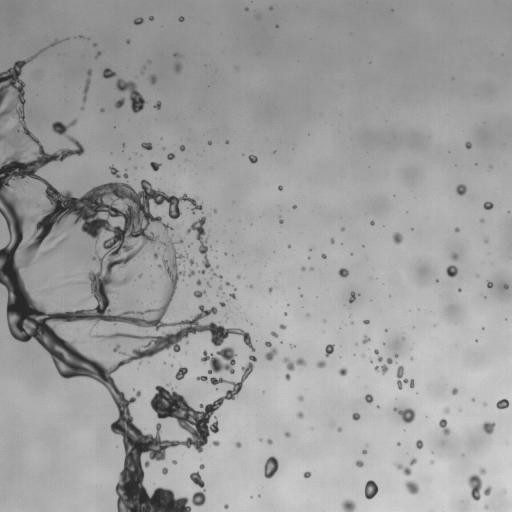droplet: (199, 346, 237, 375), (393, 407, 415, 424), (264, 455, 278, 478), (264, 340, 278, 361), (404, 478, 420, 495), (364, 480, 378, 499), (174, 363, 188, 381), (340, 498, 356, 511), (482, 420, 495, 434), (374, 363, 389, 375), (102, 68, 117, 78), (446, 265, 458, 277), (348, 291, 360, 303), (496, 398, 509, 409), (193, 289, 207, 299), (114, 97, 125, 109), (455, 184, 467, 195), (392, 232, 403, 244), (324, 344, 334, 357), (138, 86, 149, 97), (7, 114, 18, 125), (212, 137, 223, 148), (144, 150, 155, 161), (149, 150, 160, 161), (159, 158, 170, 169), (36, 165, 47, 176), (143, 168, 154, 179), (55, 182, 66, 193), (72, 187, 83, 198), (148, 203, 159, 214), (282, 209, 293, 220), (185, 212, 196, 223), (174, 225, 185, 236), (170, 228, 181, 239), (221, 336, 232, 347), (207, 343, 218, 354), (238, 345, 249, 356), (255, 345, 266, 356), (276, 346, 287, 357), (160, 347, 171, 358), (174, 355, 185, 366), (235, 355, 246, 366), (305, 355, 316, 366), (73, 374, 84, 385), (85, 376, 96, 387), (216, 383, 227, 394), (447, 395, 458, 406), (188, 398, 199, 409), (381, 401, 392, 412), (108, 409, 119, 420), (165, 415, 176, 426), (141, 424, 152, 435), (178, 429, 189, 440), (112, 432, 123, 443), (272, 432, 283, 443), (115, 449, 126, 460), (110, 473, 121, 484), (150, 161, 162, 171), (173, 61, 182, 73), (338, 268, 349, 277), (338, 366, 347, 377), (141, 142, 153, 150), (148, 74, 157, 84), (483, 201, 493, 210), (316, 360, 326, 369), (364, 393, 373, 403), (133, 17, 144, 25), (386, 357, 398, 364), (166, 152, 175, 161), (248, 154, 257, 163), (93, 68, 102, 77), (121, 89, 130, 98), (106, 101, 115, 110), (44, 145, 53, 154), (178, 200, 187, 209), (161, 214, 170, 223), (400, 229, 409, 238), (175, 243, 184, 252), (311, 250, 320, 259), (194, 253, 203, 262), (210, 277, 219, 286), (290, 295, 299, 304), (199, 316, 208, 325), (203, 330, 212, 339), (367, 340, 376, 349), (380, 349, 389, 358), (42, 351, 51, 360), (202, 360, 211, 369), (388, 363, 397, 372), (402, 369, 411, 378), (295, 401, 304, 410), (207, 431, 216, 440), (164, 446, 173, 455), (410, 447, 419, 456), (140, 451, 149, 460), (415, 478, 424, 487), (160, 480, 169, 489), (400, 487, 409, 496), (153, 100, 161, 110), (362, 334, 370, 344), (415, 439, 423, 449), (296, 410, 304, 419), (352, 412, 361, 420), (355, 459, 364, 467), (189, 505, 200, 511), (451, 387, 459, 395), (442, 406, 450, 414), (302, 471, 311, 478), (464, 141, 471, 149), (451, 252, 458, 260), (486, 280, 493, 288), (270, 331, 278, 338), (296, 395, 304, 402), (0, 63, 5, 74), (0, 155, 5, 166), (0, 283, 5, 294), (0, 302, 5, 313), (266, 438, 273, 445), (133, 11, 140, 18), (16, 54, 23, 61), (169, 56, 176, 63), (179, 57, 186, 64), (167, 62, 174, 69), (20, 65, 27, 72), (180, 65, 187, 72), (144, 69, 151, 76), (122, 75, 129, 82), (109, 76, 116, 83), (135, 85, 142, 92), (124, 99, 131, 106), (61, 118, 68, 125), (65, 127, 72, 134), (32, 130, 39, 137), (52, 131, 59, 138), (69, 143, 76, 150), (174, 150, 181, 157), (70, 153, 77, 160), (64, 155, 71, 162), (47, 160, 54, 167), (126, 161, 133, 168), (35, 168, 42, 175), (109, 175, 116, 182), (118, 176, 125, 183), (94, 179, 101, 186), (151, 183, 158, 190), (134, 185, 141, 192), (161, 200, 168, 207), (392, 225, 399, 232), (190, 229, 197, 236), (386, 235, 393, 242), (400, 237, 407, 244), (193, 240, 200, 247), (397, 241, 404, 248), (208, 257, 215, 264), (447, 258, 454, 265), (303, 260, 310, 267), (193, 272, 200, 279), (190, 274, 197, 281), (196, 284, 203, 291), (222, 322, 229, 329), (275, 327, 282, 334), (248, 333, 255, 340), (29, 336, 36, 343), (269, 336, 276, 343), (14, 339, 21, 346), (177, 339, 184, 346), (36, 344, 43, 351), (141, 355, 148, 362), (289, 355, 296, 362), (131, 358, 138, 365), (110, 371, 117, 378), (212, 371, 219, 378), (71, 375, 78, 382), (233, 375, 240, 382), (401, 382, 408, 389), (175, 387, 182, 394), (124, 392, 131, 399), (475, 397, 482, 404), (127, 402, 134, 409), (192, 403, 199, 410), (399, 403, 406, 410), (449, 406, 456, 413), (150, 410, 157, 417), (395, 414, 402, 421), (412, 415, 419, 422), (131, 418, 138, 425), (478, 428, 485, 435), (487, 432, 494, 439), (177, 443, 184, 450), (358, 454, 365, 461), (149, 458, 156, 465), (276, 458, 283, 465), (402, 460, 409, 467), (117, 463, 124, 470), (166, 463, 173, 470), (409, 464, 416, 471), (191, 465, 198, 472), (472, 468, 479, 475), (465, 470, 472, 477), (199, 473, 206, 480), (406, 474, 413, 481), (193, 484, 200, 491), (465, 485, 472, 492), (477, 487, 484, 494), (173, 492, 180, 499), (412, 492, 419, 499), (185, 499, 192, 506), (179, 144, 185, 152), (278, 323, 286, 329), (196, 278, 201, 287), (245, 284, 254, 289), (336, 506, 345, 511), (352, 506, 361, 511), (308, 245, 315, 251), (136, 273, 144, 278), (362, 319, 370, 324), (277, 185, 283, 191), (300, 265, 306, 271), (284, 431, 290, 437), (235, 441, 241, 447), (429, 459, 435, 465), (266, 0, 275, 4), (483, 236, 488, 243), (289, 343, 296, 348), (368, 356, 373, 363), (162, 467, 167, 474), (148, 16, 154, 21), (178, 16, 184, 21), (234, 65, 239, 71), (454, 227, 460, 232), (337, 426, 342, 432), (361, 449, 367, 454), (483, 504, 489, 509), (330, 237, 334, 244), (292, 204, 297, 209), (479, 218, 484, 223), (340, 226, 345, 231), (321, 253, 326, 258), (309, 266, 314, 271), (503, 284, 508, 289), (360, 352, 365, 357), (470, 397, 475, 402), (482, 401, 487, 406), (396, 441, 401, 446), (268, 0, 273, 5), (247, 3, 252, 8), (271, 8, 276, 13), (266, 9, 271, 14), (143, 17, 148, 22), (128, 19, 133, 24), (137, 23, 142, 28), (82, 31, 87, 36), (56, 35, 61, 40), (49, 37, 54, 42), (90, 37, 95, 42), (43, 41, 48, 46), (38, 44, 43, 49), (93, 46, 98, 51), (29, 50, 34, 55), (91, 50, 96, 55), (36, 54, 41, 59), (97, 54, 102, 59), (32, 57, 37, 62), (8, 62, 13, 67), (110, 66, 115, 71), (82, 67, 87, 72), (98, 69, 103, 74), (82, 73, 87, 78), (17, 74, 22, 79), (131, 77, 136, 82), (80, 81, 85, 86), (154, 81, 159, 86), (88, 83, 93, 88), (79, 85, 84, 90), (22, 86, 27, 91), (86, 89, 91, 94), (78, 92, 83, 97), (22, 94, 27, 99), (141, 94, 146, 99), (151, 99, 156, 104), (77, 100, 82, 105), (83, 102, 88, 107), (142, 102, 147, 107), (160, 102, 165, 107), (95, 105, 100, 110), (138, 109, 143, 114), (47, 124, 52, 129), (27, 126, 32, 131), (74, 135, 79, 140), (464, 136, 469, 141), (144, 137, 149, 142), (78, 139, 83, 144), (39, 140, 44, 145), (160, 141, 165, 146), (81, 143, 86, 148), (151, 143, 156, 148), (470, 143, 475, 148), (461, 145, 466, 150), (142, 148, 147, 153), (166, 148, 171, 153), (80, 152, 85, 157), (130, 154, 135, 159), (171, 157, 176, 162), (154, 158, 159, 163), (147, 165, 152, 170), (157, 166, 162, 171), (118, 170, 123, 175), (47, 178, 52, 183), (459, 179, 464, 184), (464, 190, 469, 195), (166, 191, 171, 196), (175, 193, 180, 198), (187, 193, 192, 198), (455, 193, 460, 198), (195, 199, 200, 204), (201, 206, 206, 211), (194, 208, 199, 213), (487, 208, 492, 213), (176, 216, 181, 221), (339, 221, 344, 226), (479, 222, 484, 227), (185, 223, 190, 228), (201, 223, 206, 228), (457, 223, 462, 228), (341, 230, 346, 235), (329, 232, 334, 237), (325, 238, 330, 243), (334, 239, 339, 244), (182, 240, 187, 245), (173, 243, 178, 248), (454, 248, 459, 253), (205, 249, 210, 254), (305, 250, 310, 255), (226, 253, 231, 258), (184, 259, 189, 264), (340, 263, 345, 268), (190, 264, 195, 269), (199, 264, 204, 269), (295, 264, 300, 269), (204, 267, 209, 272), (334, 267, 339, 272), (185, 268, 190, 273), (304, 268, 309, 273), (215, 269, 220, 274), (296, 269, 301, 274), (442, 271, 447, 276), (335, 273, 340, 278), (177, 274, 182, 279), (345, 274, 350, 279), (451, 275, 456, 280), (214, 276, 219, 281), (221, 276, 226, 281), (200, 280, 205, 285), (220, 280, 225, 285), (175, 281, 180, 286), (265, 282, 270, 287), (221, 283, 226, 288), (228, 288, 233, 293), (271, 288, 276, 293), (298, 288, 303, 293), (217, 290, 222, 295), (345, 293, 350, 298), (171, 295, 176, 300), (168, 301, 173, 306), (215, 303, 220, 308), (203, 305, 208, 310), (283, 306, 288, 311), (363, 314, 368, 319), (187, 315, 192, 320), (350, 315, 355, 320), (176, 316, 181, 321), (243, 327, 248, 332), (5, 329, 10, 334), (227, 332, 232, 337), (366, 332, 371, 337), (8, 334, 13, 339), (238, 334, 243, 339), (358, 335, 363, 340), (250, 339, 255, 344), (365, 341, 370, 346), (168, 345, 173, 350), (332, 345, 337, 350), (265, 346, 270, 351), (321, 349, 326, 354), (251, 351, 256, 356), (328, 352, 333, 357), (372, 353, 377, 358), (272, 354, 277, 359), (233, 355, 238, 360), (302, 355, 307, 360), (391, 356, 396, 361), (166, 359, 171, 364), (265, 359, 270, 364), (381, 359, 386, 364), (49, 361, 54, 366), (377, 361, 382, 366), (181, 362, 186, 367), (385, 362, 390, 367), (337, 364, 342, 369), (118, 365, 123, 370), (320, 366, 325, 371), (52, 367, 57, 372), (173, 367, 178, 372), (251, 367, 256, 372), (287, 369, 292, 374), (345, 370, 350, 375), (335, 372, 340, 377), (183, 373, 188, 378), (206, 373, 211, 378), (280, 374, 285, 379), (342, 374, 347, 379), (241, 381, 246, 386), (216, 382, 221, 387), (228, 384, 233, 389), (117, 386, 122, 391), (447, 386, 452, 391), (239, 387, 244, 392), (152, 388, 157, 393), (362, 390, 367, 395), (456, 390, 461, 395), (370, 391, 375, 396), (470, 392, 475, 397), (302, 393, 307, 398), (360, 393, 365, 398), (497, 395, 502, 400), (135, 396, 140, 401), (360, 397, 365, 402), (222, 398, 227, 403), (208, 399, 213, 404), (370, 400, 375, 405), (364, 401, 369, 406), (410, 405, 415, 410), (501, 407, 506, 412), (301, 408, 306, 413), (357, 409, 362, 414), (212, 410, 217, 415), (347, 413, 352, 418), (442, 414, 447, 419), (295, 417, 300, 422), (435, 417, 440, 422), (445, 417, 450, 422), (487, 418, 492, 423), (352, 419, 357, 424), (409, 420, 414, 425), (335, 421, 340, 426), (445, 422, 450, 427), (106, 425, 111, 430), (492, 425, 497, 430), (283, 426, 288, 431), (332, 426, 337, 431), (438, 426, 443, 431), (288, 428, 293, 433), (208, 430, 213, 435), (268, 434, 273, 439), (443, 434, 448, 439), (159, 435, 164, 440), (262, 435, 267, 440), (281, 435, 286, 440), (233, 437, 238, 442), (421, 438, 426, 443), (262, 440, 267, 445), (240, 441, 245, 446), (230, 442, 235, 447), (119, 443, 124, 448), (411, 443, 416, 448), (181, 444, 186, 449), (189, 444, 194, 449), (201, 444, 206, 449), (360, 444, 365, 449), (234, 446, 239, 451), (264, 454, 269, 459), (274, 454, 279, 459), (429, 454, 434, 459), (261, 458, 266, 463), (482, 463, 487, 468), (391, 465, 396, 470), (357, 466, 362, 471), (301, 467, 306, 472), (166, 469, 171, 474), (259, 469, 264, 474), (273, 471, 278, 476), (298, 472, 303, 477), (367, 475, 372, 480), (265, 477, 270, 482), (188, 479, 193, 484), (361, 480, 366, 485), (375, 481, 380, 486), (111, 482, 116, 487), (489, 489, 494, 494), (203, 491, 208, 496), (360, 491, 365, 496), (252, 493, 257, 498), (373, 493, 378, 498), (113, 494, 118, 499), (468, 496, 473, 501), (203, 499, 208, 504), (213, 208, 217, 214), (171, 460, 177, 464), (0, 105, 3, 112), (0, 127, 3, 134), (0, 139, 3, 146), (0, 201, 3, 208), (0, 242, 3, 249), (244, 7, 249, 11), (268, 6, 273, 10), (126, 39, 130, 44), (99, 108, 104, 112), (207, 140, 211, 145), (370, 220, 374, 225), (307, 255, 311, 260), (215, 264, 219, 269), (236, 274, 240, 279), (305, 313, 310, 317), (321, 319, 326, 323), (394, 352, 398, 357), (309, 426, 314, 430), (502, 488, 506, 493), (224, 504, 228, 509), (225, 140, 229, 144), (287, 244, 291, 248), (457, 288, 461, 292), (283, 312, 287, 316), (350, 321, 354, 325), (384, 328, 388, 332), (401, 336, 405, 340), (354, 342, 358, 346), (376, 405, 380, 409), (365, 443, 369, 447), (92, 43, 97, 46), (122, 142, 125, 147), (184, 159, 189, 162), (432, 323, 437, 326), (410, 356, 413, 361), (508, 283, 511, 288), (508, 400, 511, 405), (112, 508, 117, 511), (223, 508, 228, 511), (481, 508, 486, 511), (485, 508, 490, 511), (275, 24, 278, 28), (147, 60, 151, 63), (162, 147, 166, 150), (272, 150, 276, 153), (133, 152, 137, 155), (133, 166, 137, 169), (410, 227, 414, 230), (475, 274, 479, 277), (435, 278, 438, 282), (481, 326, 484, 330), (475, 338, 478, 342), (163, 361, 167, 364), (170, 363, 173, 367), (258, 438, 262, 441), (115, 444, 118, 448), (257, 494, 261, 497), (0, 213, 2, 218), (241, 153, 244, 156), (489, 165, 492, 168), (124, 168, 127, 171), (507, 210, 510, 213), (340, 242, 343, 245), (224, 252, 227, 255), (350, 252, 353, 255), (297, 286, 300, 289), (300, 294, 303, 297), (388, 294, 391, 297), (286, 303, 289, 306), (322, 330, 325, 333), (382, 342, 385, 345), (184, 351, 187, 354), (262, 390, 265, 393), (458, 408, 461, 411), (431, 451, 434, 454), (461, 453, 464, 456), (272, 5, 275, 8), (243, 10, 246, 13), (149, 12, 152, 15), (181, 13, 184, 16), (176, 14, 179, 17), (153, 15, 156, 18), (175, 18, 178, 21), (151, 19, 154, 22), (182, 19, 185, 22), (179, 21, 182, 24), (277, 22, 280, 25), (272, 23, 275, 26), (275, 27, 278, 30), (80, 32, 83, 35), (74, 33, 77, 36), (63, 35, 66, 38), (76, 36, 79, 39), (79, 37, 82, 40), (84, 38, 87, 41), (65, 39, 68, 42), (61, 40, 64, 43), (129, 40, 132, 43), (123, 41, 126, 44), (53, 44, 56, 47), (49, 46, 52, 49), (171, 50, 174, 53), (368, 63, 371, 66), (106, 65, 109, 68), (102, 66, 105, 69), (23, 102, 26, 105), (153, 107, 156, 110), (23, 109, 26, 112), (100, 111, 103, 114), (112, 122, 115, 125), (115, 124, 118, 127), (207, 137, 210, 140), (222, 139, 225, 142), (119, 140, 122, 143), (204, 140, 207, 143), (228, 140, 231, 143), (124, 143, 127, 146), (205, 143, 208, 146), (210, 143, 213, 146), (225, 143, 228, 146), (119, 144, 122, 147), (184, 146, 187, 149), (270, 148, 273, 151), (183, 149, 186, 152), (248, 151, 251, 154), (274, 151, 277, 154), (252, 152, 255, 155), (136, 153, 139, 156), (256, 158, 259, 161), (167, 159, 170, 162), (247, 159, 250, 162), (474, 159, 477, 162), (251, 162, 254, 165), (108, 163, 111, 166), (472, 164, 475, 167), (137, 165, 140, 168), (115, 166, 118, 169), (107, 168, 110, 171), (125, 170, 128, 173), (141, 176, 144, 179), (279, 182, 282, 185), (275, 184, 278, 187), (282, 186, 285, 189), (276, 189, 279, 192), (280, 189, 283, 192), (390, 195, 393, 198), (491, 200, 494, 203), (290, 202, 293, 205), (295, 202, 298, 205), (201, 203, 204, 206), (480, 204, 483, 207), (211, 205, 214, 208), (290, 207, 293, 210), (294, 207, 297, 210), (216, 208, 219, 211), (210, 209, 213, 212), (504, 211, 507, 214), (280, 216, 283, 219), (276, 217, 279, 220), (367, 219, 370, 222), (373, 219, 376, 222), (282, 221, 285, 224), (369, 224, 372, 227), (410, 224, 413, 227), (453, 224, 456, 227), (337, 226, 340, 229), (5, 228, 8, 231), (344, 228, 347, 231), (451, 228, 454, 231), (412, 229, 415, 232), (455, 231, 458, 234), (171, 238, 174, 241), (342, 240, 345, 243), (363, 242, 366, 245), (484, 242, 487, 245), (330, 243, 333, 246), (342, 243, 345, 246), (284, 244, 287, 247), (290, 244, 293, 247), (211, 245, 214, 248), (361, 247, 364, 250), (225, 249, 228, 252), (347, 250, 350, 253), (182, 252, 185, 255), (220, 252, 223, 255), (352, 252, 355, 255), (325, 253, 328, 256), (223, 255, 226, 258), (349, 255, 352, 258), (304, 257, 307, 260), (322, 258, 325, 261), (192, 262, 195, 265), (310, 270, 313, 273), (236, 271, 239, 274), (220, 272, 223, 275), (240, 273, 243, 276), (372, 275, 375, 278), (239, 276, 242, 279), (432, 278, 435, 281), (488, 278, 491, 281), (208, 281, 211, 284), (229, 281, 232, 284), (484, 281, 487, 284), (246, 282, 249, 285), (492, 282, 495, 285), (500, 283, 503, 286), (252, 284, 255, 287), (459, 285, 462, 288), (484, 285, 487, 288), (491, 285, 494, 288), (455, 286, 458, 289), (247, 287, 250, 290), (265, 287, 268, 290), (488, 287, 491, 290), (295, 288, 298, 291), (503, 288, 506, 291), (174, 289, 177, 292), (457, 291, 460, 294), (360, 292, 363, 295), (234, 293, 237, 296), (480, 295, 483, 298), (486, 295, 489, 298), (299, 297, 302, 300), (284, 300, 287, 303), (352, 300, 355, 303), (283, 303, 286, 306), (239, 308, 242, 311), (286, 311, 289, 314), (226, 313, 229, 316), (281, 313, 284, 316), (501, 316, 504, 319), (506, 316, 509, 319), (247, 319, 250, 322), (346, 320, 349, 323), (433, 320, 436, 323), (503, 320, 506, 323), (283, 322, 286, 325), (340, 323, 343, 326), (364, 323, 367, 326), (481, 323, 484, 326), (349, 324, 352, 327), (385, 325, 388, 328), (484, 326, 487, 329), (381, 327, 384, 330), (339, 328, 342, 331), (387, 329, 390, 332), (480, 329, 483, 332), (384, 331, 387, 334), (402, 333, 405, 336), (472, 336, 475, 339), (352, 339, 355, 342), (383, 339, 386, 342), (477, 339, 480, 342), (282, 340, 285, 343), (329, 341, 332, 344), (473, 341, 476, 344), (384, 343, 387, 346), (295, 344, 298, 347), (323, 344, 326, 347), (291, 346, 294, 349), (200, 349, 203, 352), (395, 350, 398, 353), (176, 351, 179, 354), (349, 352, 352, 355), (355, 352, 358, 355), (352, 355, 355, 358), (407, 355, 410, 358), (412, 355, 415, 358), (412, 358, 415, 361), (165, 363, 168, 366), (162, 364, 165, 367), (247, 374, 250, 377), (179, 378, 182, 381), (198, 379, 201, 382), (413, 380, 416, 383), (456, 385, 459, 388), (368, 391, 371, 394), (474, 396, 477, 399), (471, 401, 474, 404), (378, 403, 381, 406), (390, 406, 393, 409), (375, 407, 378, 410), (424, 412, 427, 415), (341, 426, 344, 429), (338, 431, 341, 434), (256, 439, 259, 442), (398, 439, 401, 442), (393, 441, 396, 444), (399, 444, 402, 447), (396, 445, 399, 448), (359, 449, 362, 452), (366, 449, 369, 452), (199, 451, 202, 454), (175, 458, 178, 461), (433, 461, 436, 464), (203, 463, 206, 466), (355, 465, 358, 468), (203, 466, 206, 469), (187, 472, 190, 475), (305, 477, 308, 480), (248, 492, 251, 495), (260, 493, 263, 496), (246, 495, 249, 498), (249, 498, 252, 501), (220, 504, 223, 507), (86, 37, 90, 39), (390, 9, 393, 11), (160, 137, 162, 140), (140, 154, 143, 156), (474, 163, 477, 165), (382, 225, 385, 227), (361, 245, 364, 247), (214, 256, 217, 258), (483, 296, 486, 298), (349, 314, 351, 317), (504, 318, 507, 320), (250, 322, 252, 325), (412, 326, 414, 329), (168, 353, 170, 356), (147, 360, 149, 363), (250, 495, 252, 498), (509, 208, 511, 211), (369, 61, 371, 63), (114, 126, 116, 128), (448, 151, 450, 153), (110, 152, 112, 154), (128, 157, 130, 159), (393, 194, 395, 196), (250, 223, 252, 225), (216, 240, 218, 242), (370, 299, 372, 301), (417, 308, 419, 310), (339, 327, 341, 329), (280, 341, 282, 343), (353, 353, 355, 355), (339, 356, 341, 358), (416, 392, 418, 394), (403, 429, 405, 431), (375, 278, 377, 279), (301, 306, 303, 307), (308, 134, 309, 135), (144, 428, 145, 429)
ligament: (185, 212, 222, 281), (115, 78, 148, 113), (189, 464, 206, 506), (80, 68, 92, 110), (438, 417, 450, 435), (374, 349, 383, 362), (218, 283, 225, 298), (173, 52, 184, 58), (209, 440, 220, 446), (94, 51, 101, 59), (278, 215, 283, 226), (140, 65, 146, 74), (224, 313, 229, 323), (134, 299, 143, 304), (187, 241, 192, 247), (206, 281, 211, 287), (78, 35, 84, 38), (172, 354, 175, 358), (429, 509, 434, 511), (216, 292, 218, 296), (232, 254, 235, 256), (122, 149, 123, 152), (223, 230, 225, 231)
